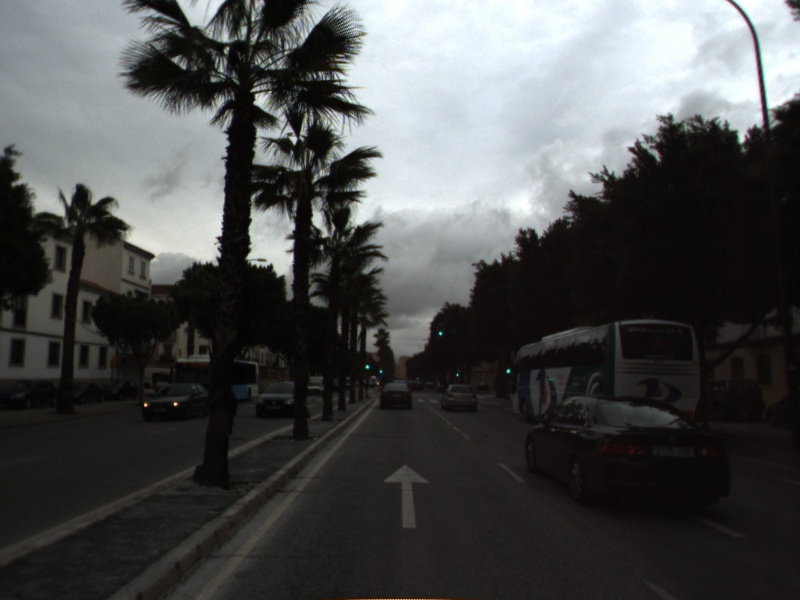STRAIGHT: (381, 462, 432, 531)
